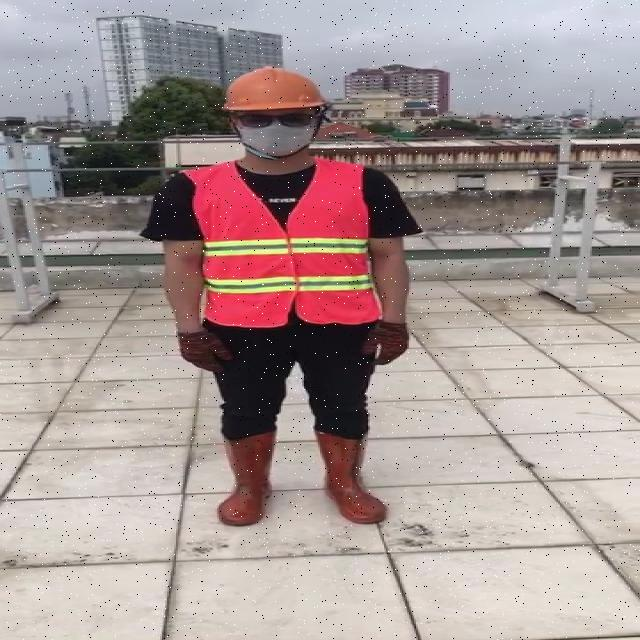Hard_hat: (218, 64, 331, 125)
Person: (134, 65, 428, 552)
Vest: (195, 158, 378, 325)
